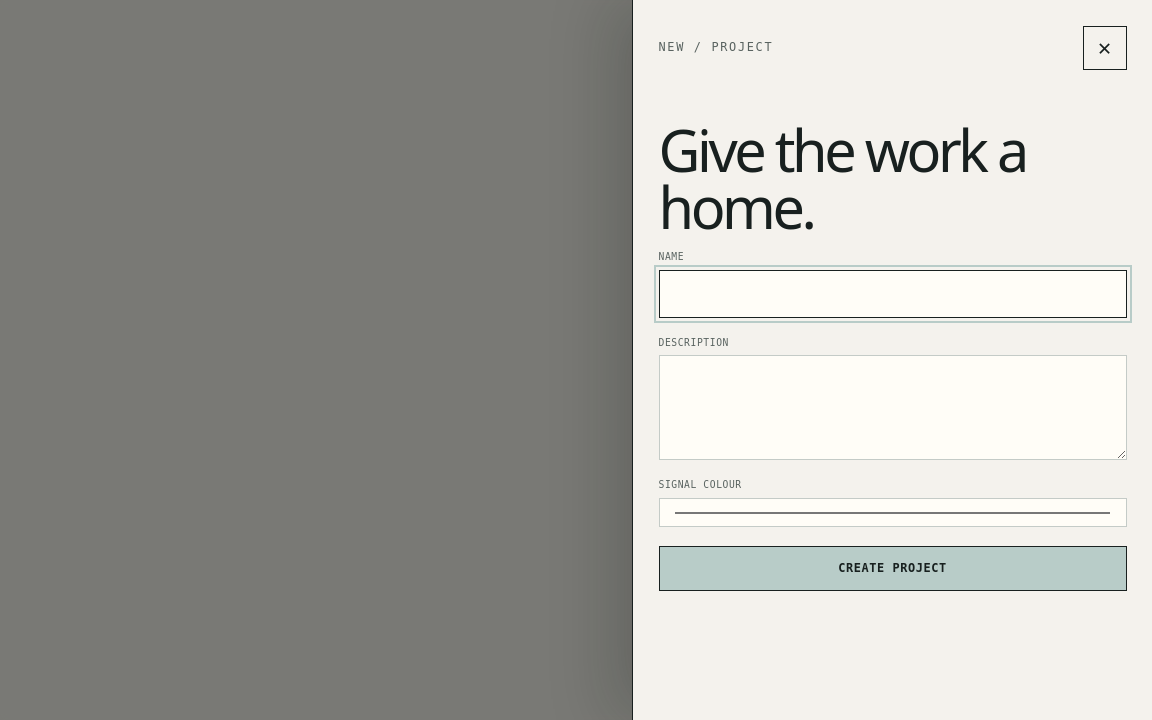
Test case: NewProjectPanel › keeps an API failure visible inside the project form
Type "Cloud Memory" into the field labelled "Name" at (892, 294), box [658,270,1126,318]
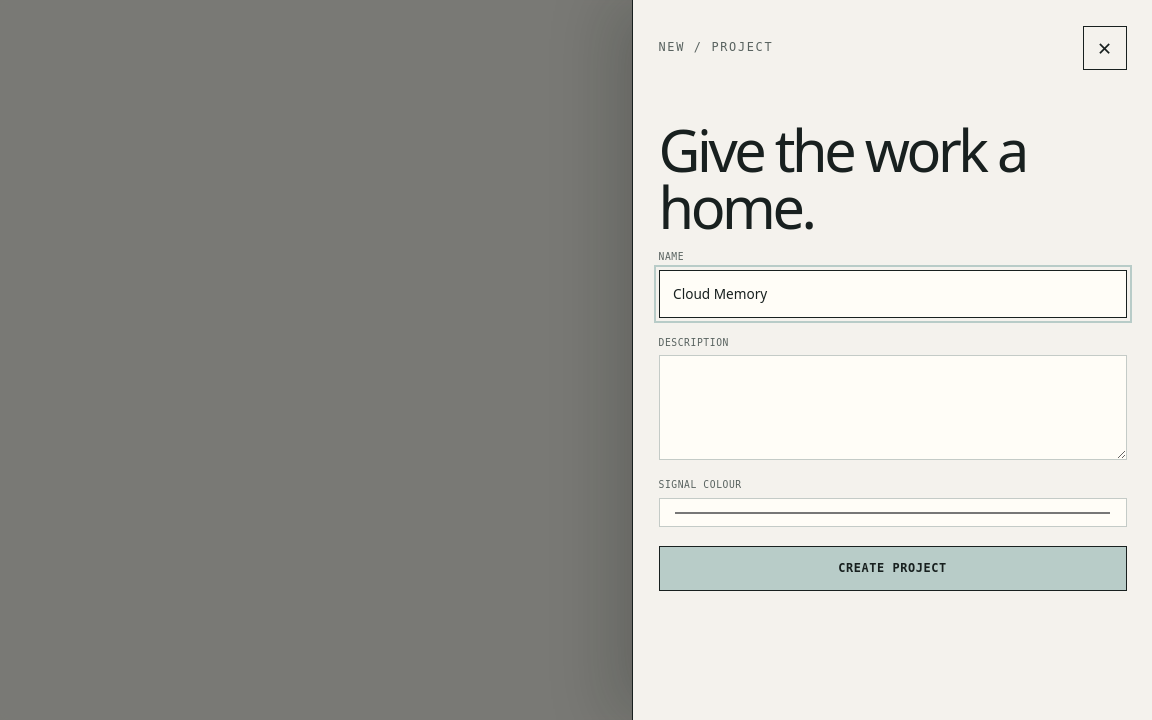
Click the button "Create project" at (892, 568), box [658,546,1126,590]
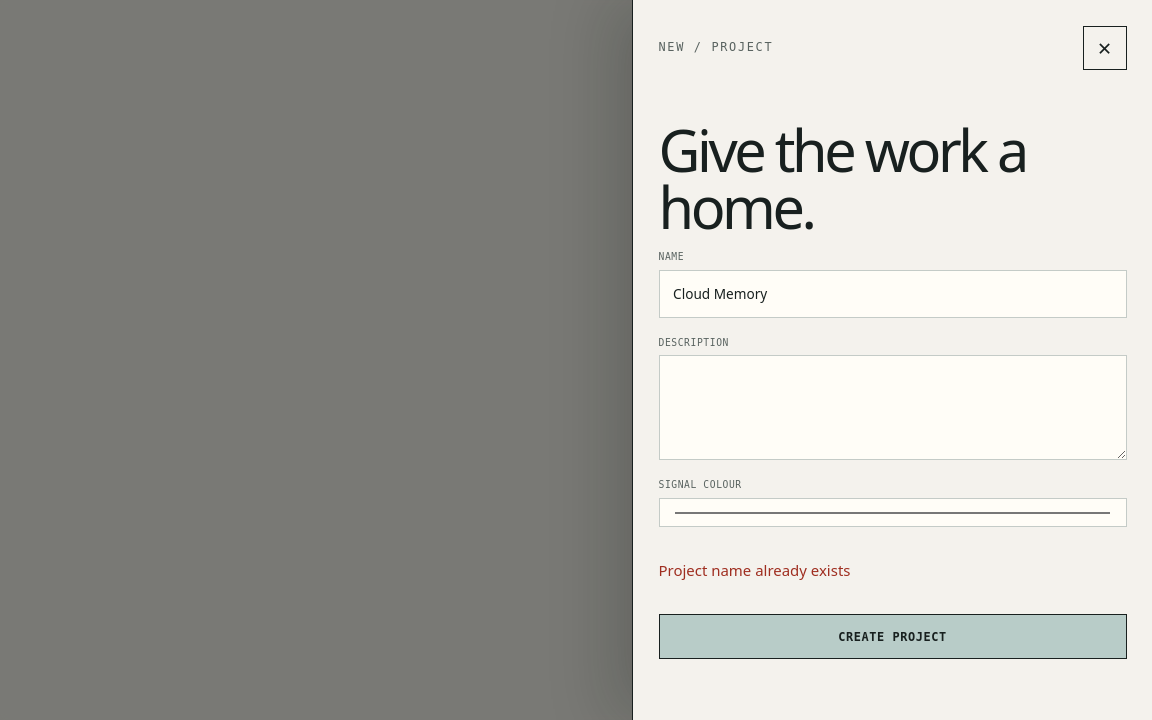
Result: the message reads "Project name already exists" at [658,560,850,580]
